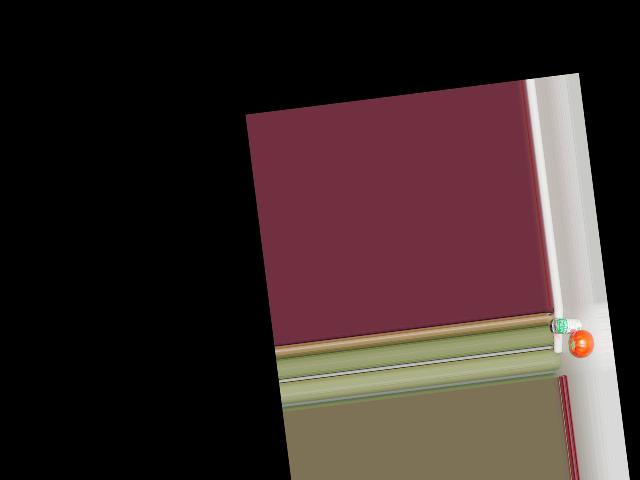tomato: (568, 329, 595, 359)
